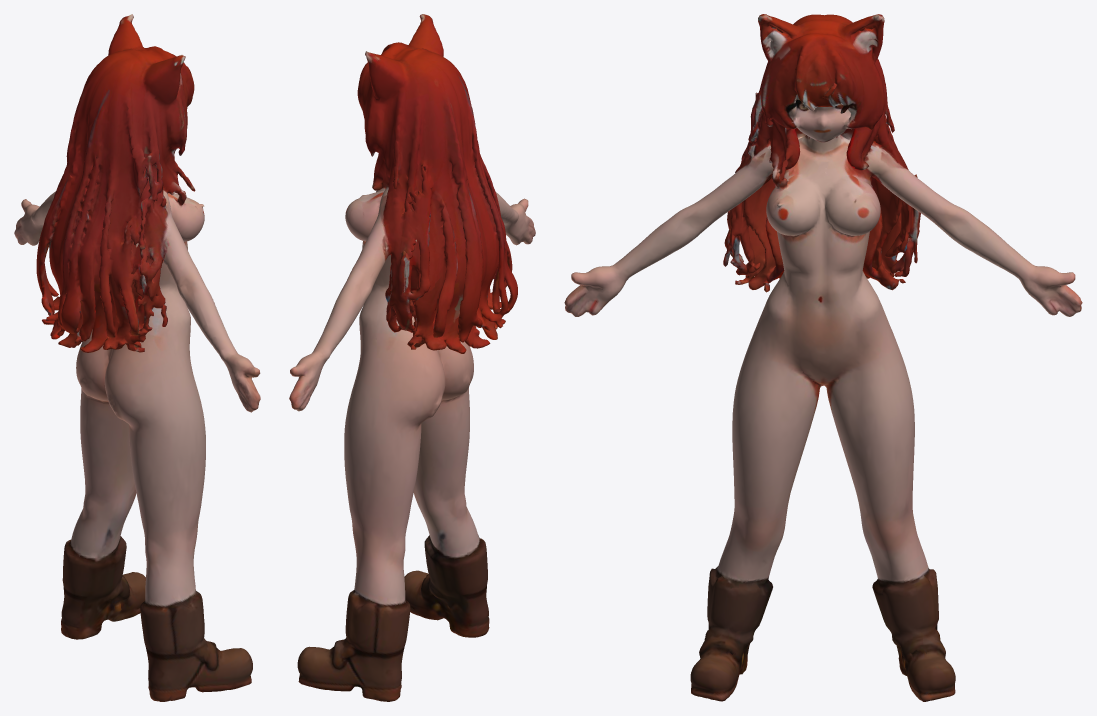
File: tripo_convert_1fbcc50f-527c-47f7-9b59-cde8b2870012 (1).fbx
3 renders of one model, left to right at view 1: azimuth 30°, elevation 25°; view 2: azimuth 150°, elevation 25°; view 3: azimuth 270°, elevation 25°, orthographic. The views are drawn at different scales.
Parts seen in each view (by area): view 1: tripo_node_1fbcc50f; view 2: tripo_node_1fbcc50f; view 3: tripo_node_1fbcc50f.
Part boxes in pixels (box(x1,y1,x2,y2)): tripo_node_1fbcc50f: box(14, 14, 260, 701); tripo_node_1fbcc50f: box(289, 14, 535, 701); tripo_node_1fbcc50f: box(564, 14, 1082, 701).
Size of the model in its own units: 25.66 by 100 by 69.82.
Materials: 1 (1 with a texture image).
